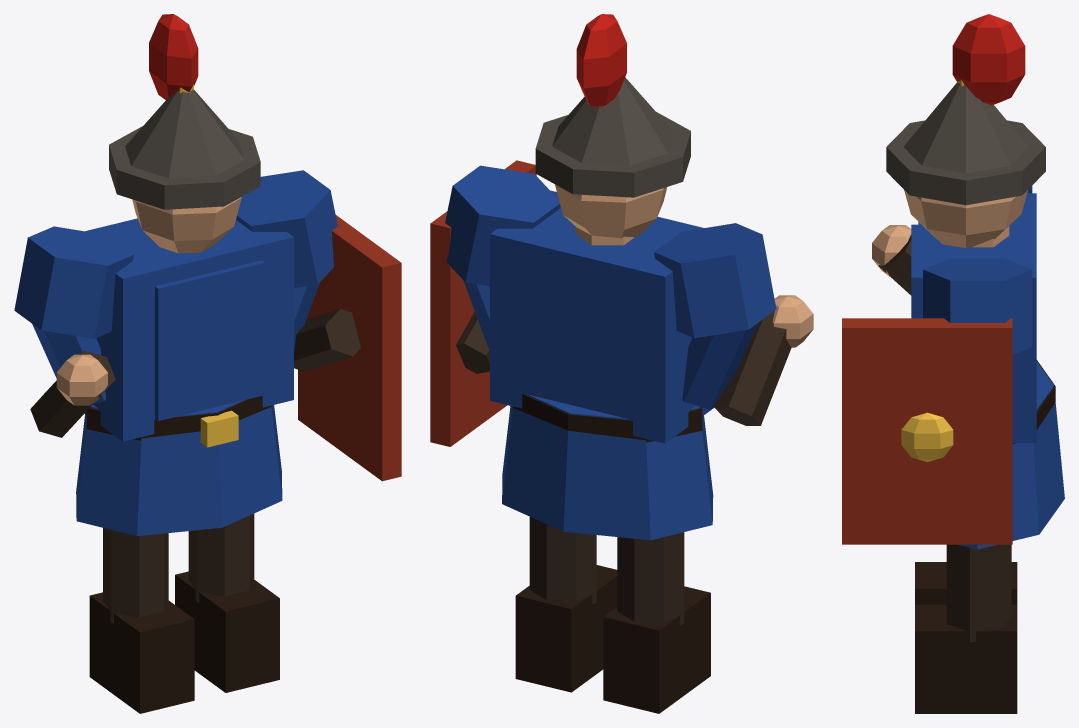
Rendered from soldier.glb.
3 views of the same model, side by side, from view 1: azimuth 30°, elevation 25°; view 2: azimuth 150°, elevation 25°; view 3: azimuth 270°, elevation 25° (orthographic). The views are drawn at different scales.
Visible parts, largest first — view 1: 원뿔, 큐브.003, 큐브.005, 큐브.004, 실린더.003, 큐브, 큐브.001, 원뿔.001, 실린더.004, 실린더.010, 실린더, 실린더.001 (+9 smaller); view 2: 큐브.003, 원뿔, 실린더.003, 큐브, 큐브.005, 큐브.001, 실린더.004, 원뿔.001, 실린더.010, 실린더, 실린더.001, 실린더.008 (+7 smaller); view 3: 큐브.005, 큐브.001, 실린더.004, 원뿔.001, 큐브.003, 실린더.010, 원뿔, 실린더.001, 구체.003, 구체.002, 구체, 큐브 (+4 smaller).
Part boxes in pixels (bbox=[...]): 원뿔: bbox=[76, 400, 282, 536]; 큐브.003: bbox=[84, 218, 293, 441]; 큐브.005: bbox=[298, 215, 401, 481]; 큐브.004: bbox=[155, 260, 265, 420]; 실린더.003: bbox=[14, 226, 133, 338]; 큐브: bbox=[89, 592, 194, 713]; 큐브.001: bbox=[175, 571, 279, 692]; 원뿔.001: bbox=[125, 89, 244, 178]; 실린더.004: bbox=[236, 170, 337, 287]; 실린더.010: bbox=[109, 126, 260, 209]; 실린더: bbox=[103, 528, 168, 623]; 실린더.001: bbox=[188, 513, 254, 602]; 큐브.003: bbox=[490, 190, 714, 443]; 원뿔: bbox=[502, 394, 713, 540]; 실린더.003: bbox=[654, 223, 776, 338]; 큐브: bbox=[603, 586, 710, 713]; 큐브.005: bbox=[430, 160, 536, 446]; 큐브.001: bbox=[515, 565, 617, 692]; 실린더.004: bbox=[445, 165, 560, 286]; 원뿔.001: bbox=[552, 77, 674, 165]; 실린더.010: bbox=[535, 112, 690, 197]; 실린더: bbox=[617, 532, 684, 625]; 실린더.001: bbox=[529, 517, 596, 604]; 실린더.008: bbox=[714, 310, 791, 425]; 큐브.005: bbox=[842, 318, 1012, 544]; 큐브.001: bbox=[915, 604, 1017, 713]; 실린더.004: bbox=[923, 258, 1032, 354]; 원뿔.001: bbox=[903, 82, 1028, 173]; 큐브.003: bbox=[918, 193, 1036, 442]; 실린더.010: bbox=[886, 120, 1045, 205]; 원뿔: bbox=[958, 361, 1064, 549]; 실린더.001: bbox=[946, 544, 1011, 642]; 구체.003: bbox=[952, 14, 1025, 105]; 구체.002: bbox=[904, 190, 1027, 247]; 구체: bbox=[901, 412, 953, 461]; 큐브: bbox=[915, 562, 1017, 604].
Size of the model in its own units: 1.65 by 3.22 by 0.979.
